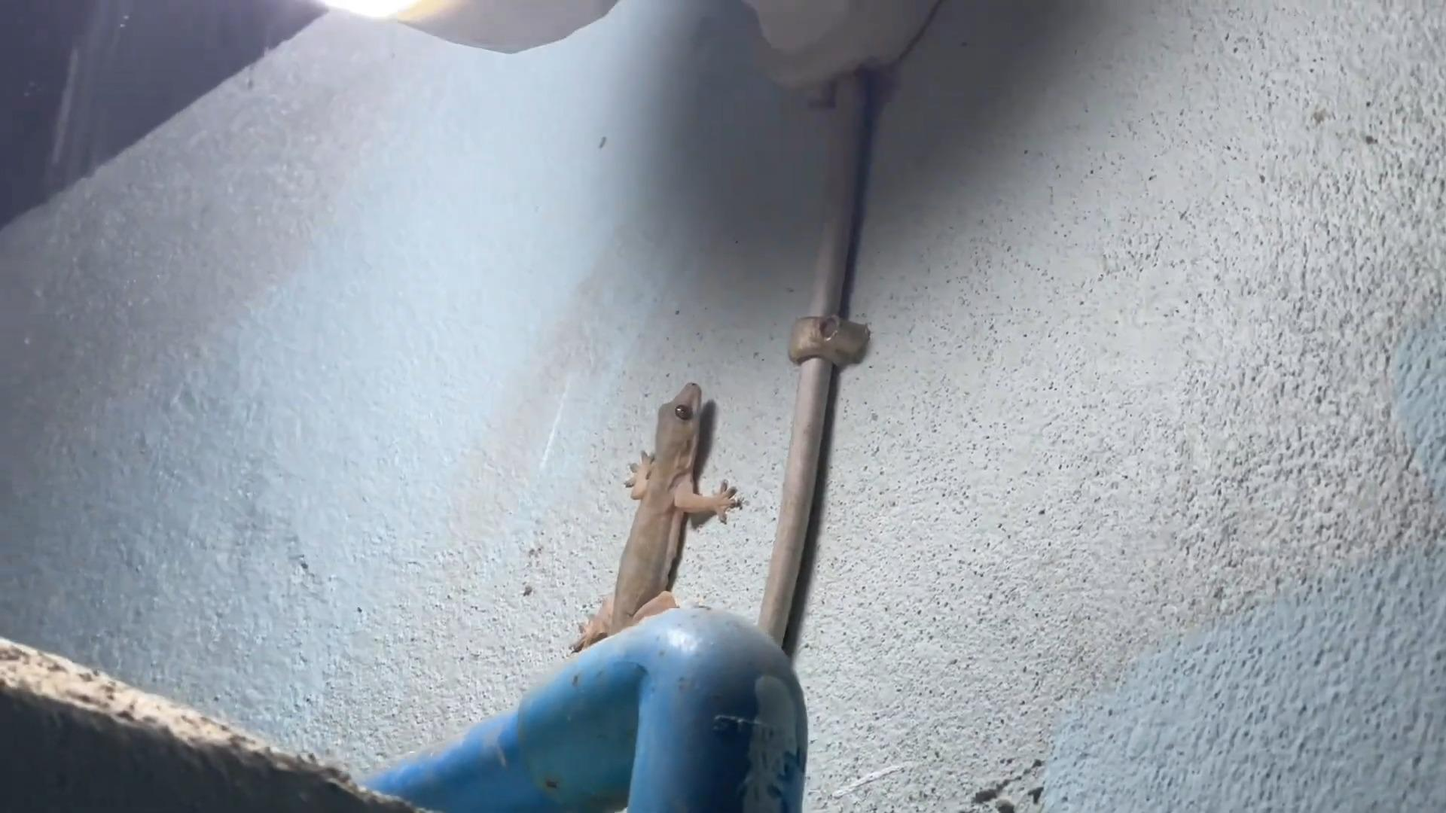lizard: (582, 379, 741, 599)
